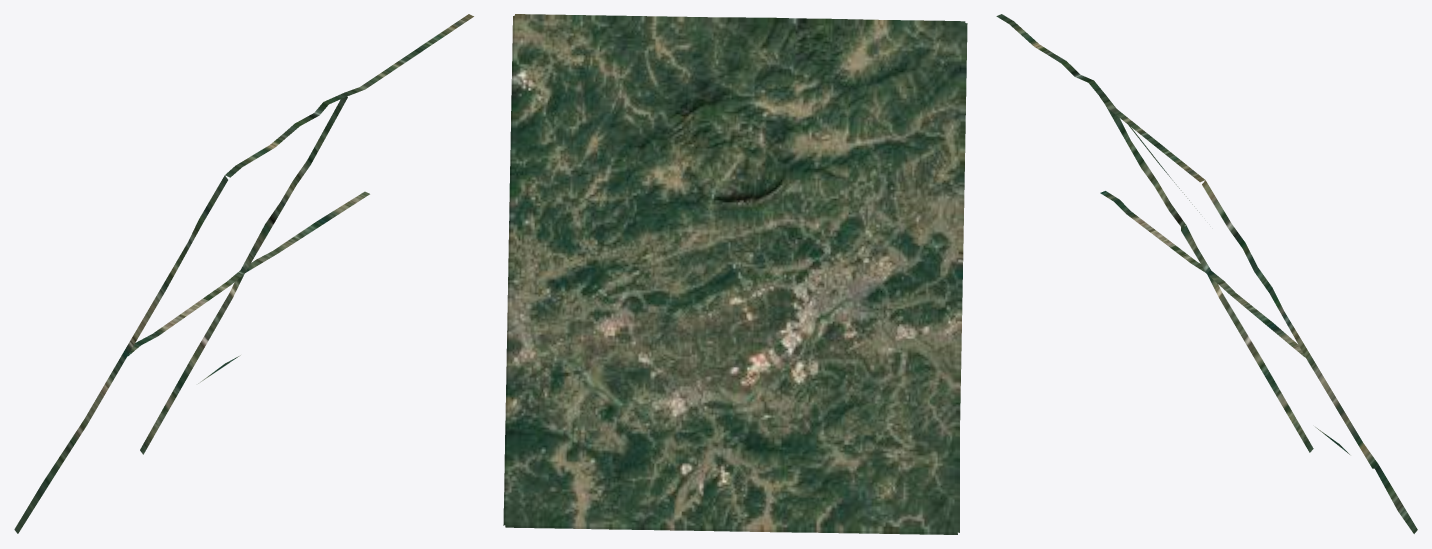
The picture shows the model from 3 angles, left to right: view 1: azimuth 30°, elevation 25°; view 2: azimuth 150°, elevation 25°; view 3: azimuth 270°, elevation 25°; orthographic projection. The views are drawn at different scales.
Bounding box in the file's own units: 79730 × 70140 × 66098.
Materials: 1 (1 with a texture image).
